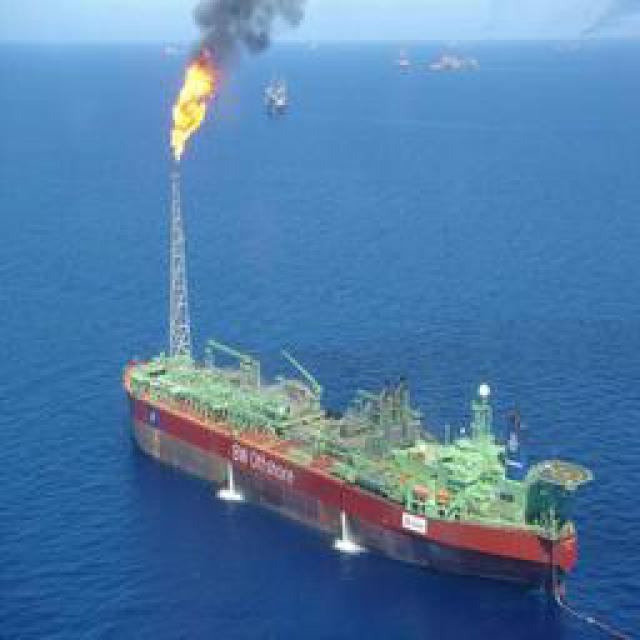Ship: (129, 258, 599, 603)
